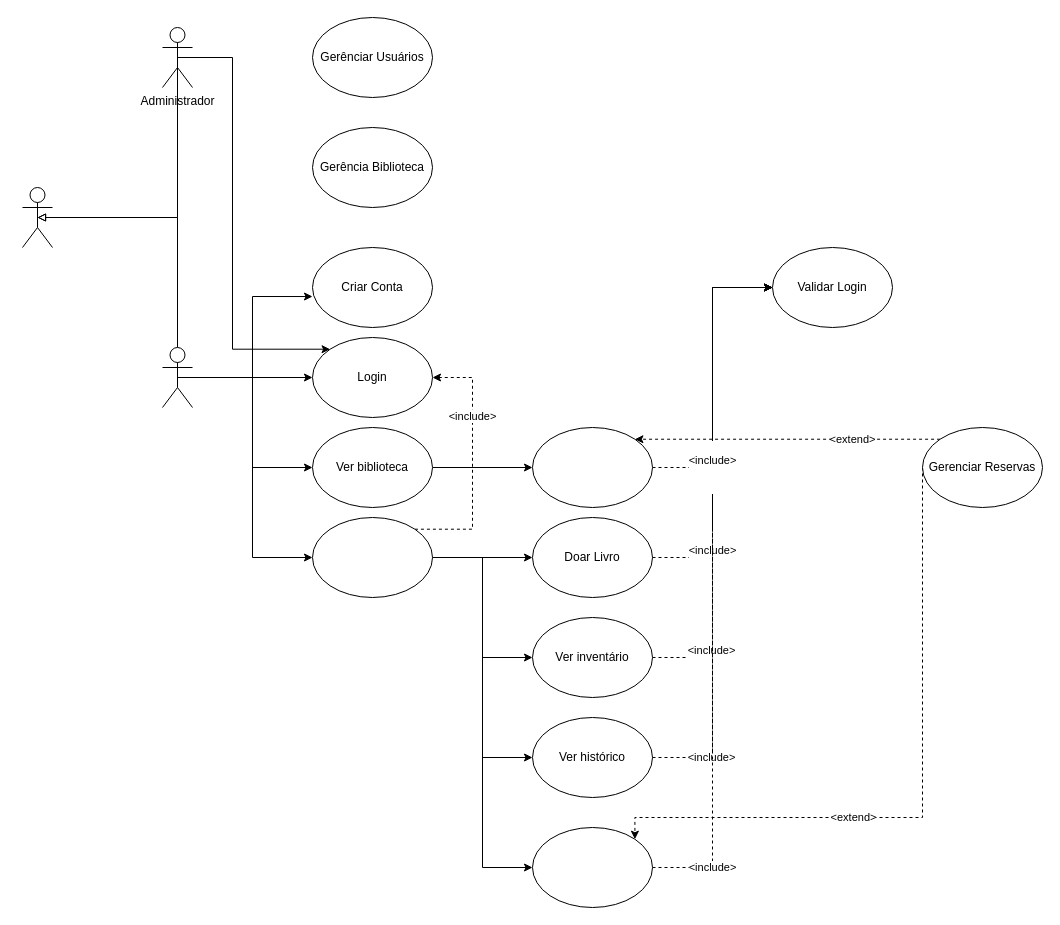
This 1060x925 diagram has some shape labels left out. Each missing label, with the centre of its shape:
"Comprar Livro" goes at [592,467].
"Obter Doação" goes at [592,867].
"Pessoa" goes at [37,217].
"Página Pessoal" goes at [372,557].
"Usuário" goes at [177,377].
